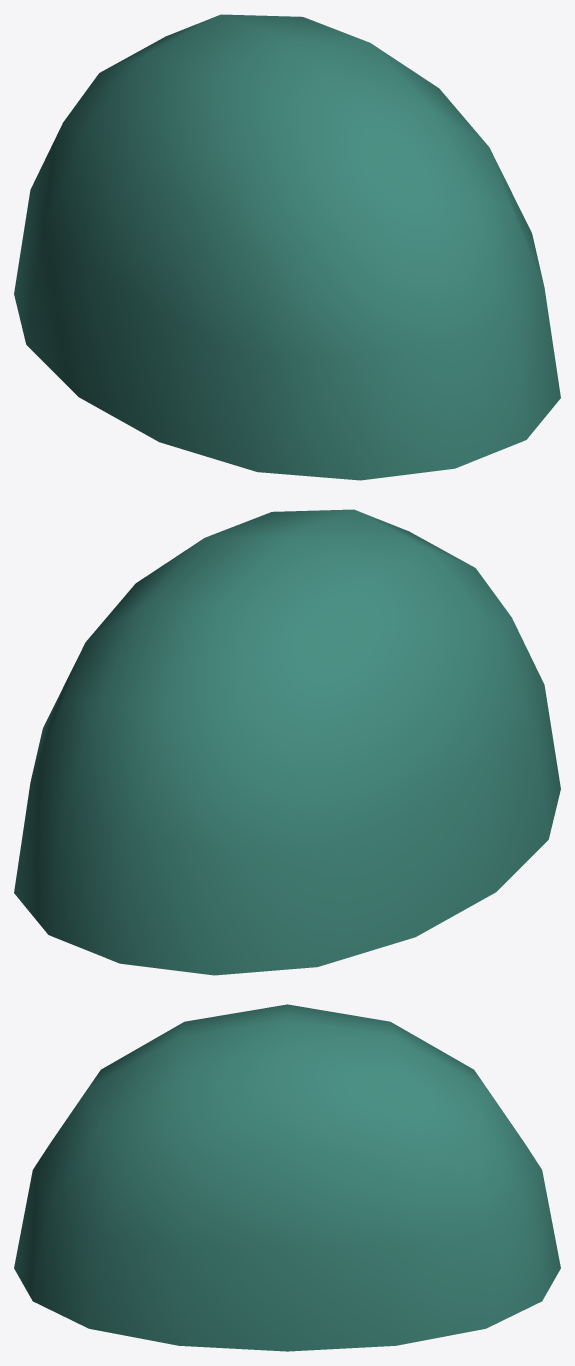
The model's file is buisson-printemps.gltf.
3 views of the same model, one above another, from view 1: azimuth 30°, elevation 25°; view 2: azimuth 150°, elevation 25°; view 3: azimuth 270°, elevation 25° (orthographic). The views are drawn at different scales.
Parts seen in each view (by area): view 1: buisson.001; view 2: buisson.001; view 3: buisson.001.
Part boxes in pixels (x1,y1,x2,y2): buisson.001: [14, 14, 560, 480]; buisson.001: [14, 509, 560, 975]; buisson.001: [14, 1004, 560, 1351].
Size of the model in its own units: 0.6461 by 0.4484 by 0.8967.
